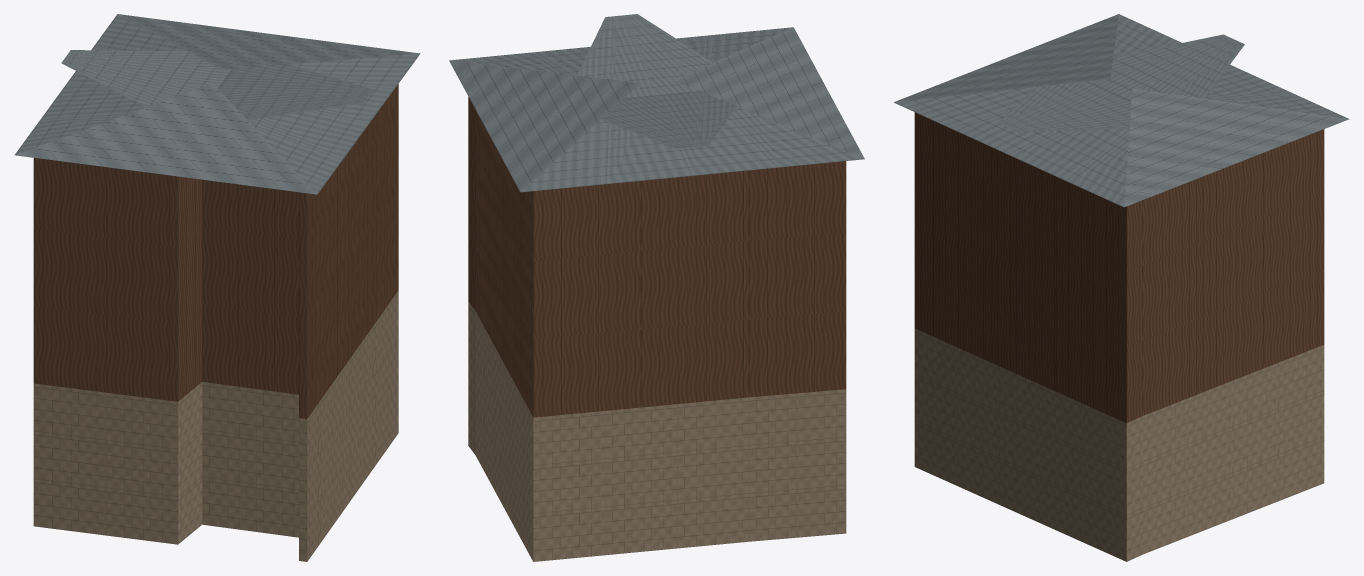
File: bld_c34_-29_458.gltf
The picture shows the model from 3 angles, left to right: view 1: azimuth 30°, elevation 25°; view 2: azimuth 150°, elevation 25°; view 3: azimuth 270°, elevation 25°; orthographic projection. The views are drawn at different scales.
Visible parts, largest first — view 1: bld_c34_-29_458; view 2: bld_c34_-29_458; view 3: bld_c34_-29_458.
Part boxes in pixels (x1,y1,x2,y2): bld_c34_-29_458: [14, 14, 420, 561]; bld_c34_-29_458: [449, 14, 864, 561]; bld_c34_-29_458: [894, 14, 1349, 561].
Bounding box in the file's own units: 15.28 × 14.4 × 15.22.
Materials: 3 (3 with a texture image).
